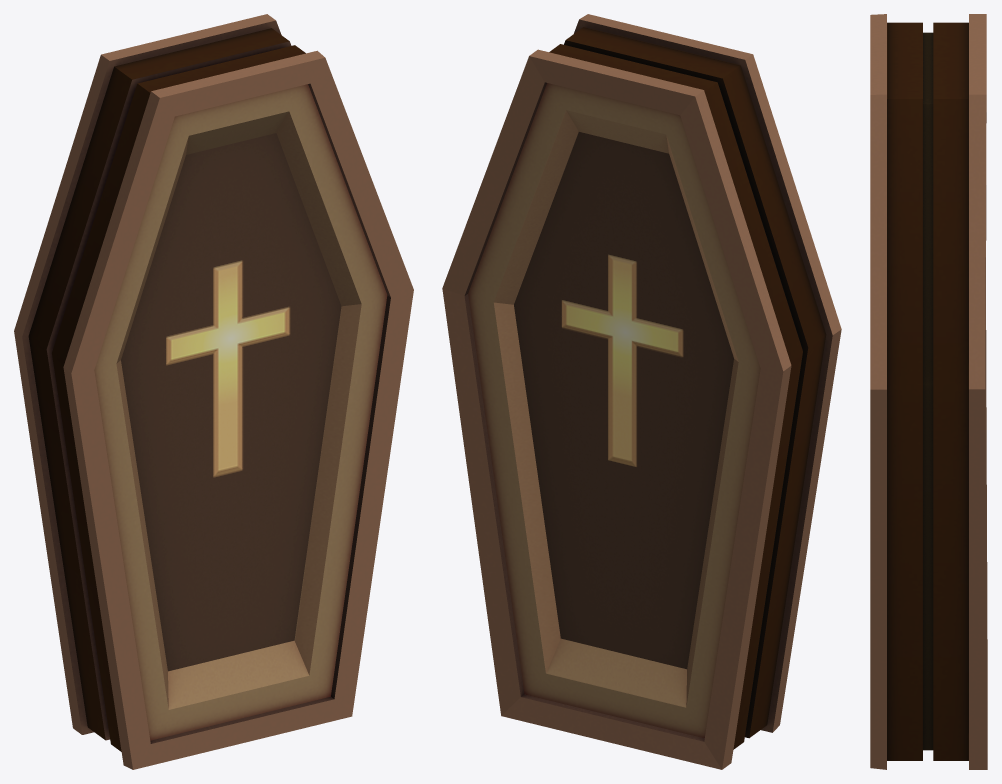
Rendered from Coffin.FBX.
3 renders of one model, left to right at view 1: azimuth 30°, elevation 25°; view 2: azimuth 150°, elevation 25°; view 3: azimuth 270°, elevation 25°, orthographic.
Parts seen in each view (by area): view 1: Box001; view 2: Box001; view 3: Box001.
Part boxes in pixels (x1=…): Box001: x1=14, y1=14, x2=413, y2=769; Box001: x1=442, y1=14, x2=841, y2=769; Box001: x1=870, y1=14, x2=987, y2=769.
Bounding box in the file's own units: 32.88 × 61.2 × 9.82.
Materials: 1 (1 with a texture image).
